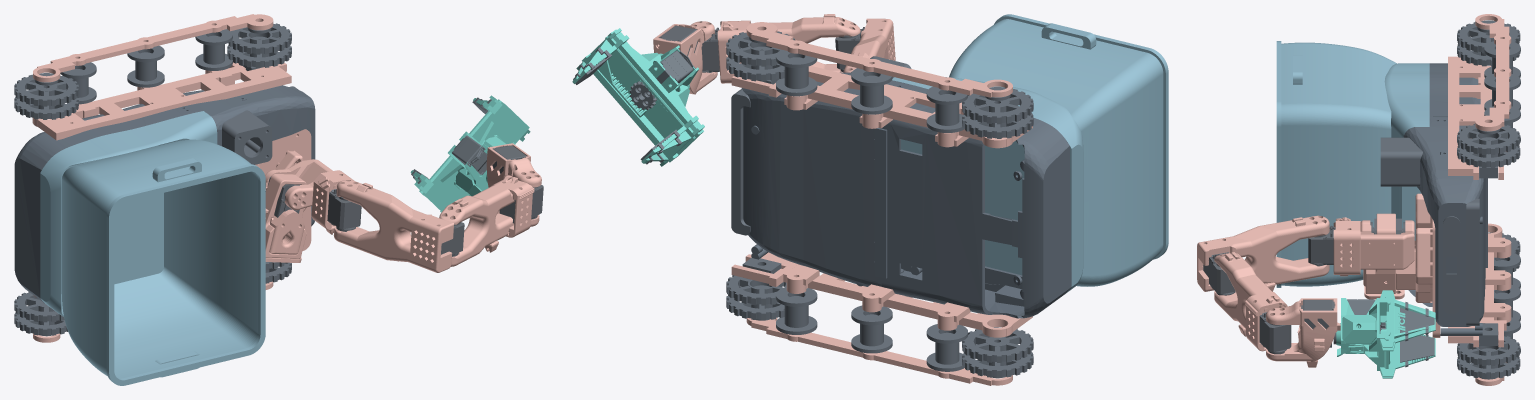
Rendered from moss.glb.
3 views of the same model, side by side, from view 1: azimuth 30°, elevation 25°; view 2: azimuth 150°, elevation 25°; view 3: azimuth 270°, elevation 25° (orthographic). The views are drawn at different scales.
Parts seen in each view (by area): view 1: body_31, body_36, upper_arm_link_1, body_2, body_1, body_20, lower_arm_link_0, grip_132, body_19, body_22, body_24, body_51 (+19 smaller); view 2: body_2, body_31, body_1, body_36, grip_132, body_10, body_12, body_20, body_22, body_9, body_24, body_19 (+21 smaller); view 3: body_31, body_1, upper_arm_link_1, body_36, wrist_link_1, base_link_1, shoulder_link_2, body_24, lower_arm_link_0, body_14, body_19, body_55 (+29 smaller).
Part boxes in pixels (<box>): body_31: <box>62,139,265,385</box>; body_36: <box>40,111,217,316</box>; upper_arm_link_1: <box>333,180,453,272</box>; body_2: <box>14,103,182,303</box>; body_1: <box>174,85,315,226</box>; body_20: <box>137,62,291,108</box>; lower_arm_link_0: <box>439,185,514,266</box>; grip_132: <box>419,99,529,212</box>; body_19: <box>32,87,173,140</box>; body_22: <box>14,74,78,119</box>; body_24: <box>227,23,291,67</box>; body_51: <box>142,14,273,48</box>; body_2: <box>880,85,1071,318</box>; body_31: <box>949,14,1168,286</box>; body_1: <box>741,72,912,286</box>; body_36: <box>892,77,1083,293</box>; grip_132: <box>582,29,703,162</box>; body_10: <box>731,252,894,312</box>; body_12: <box>962,327,1033,377</box>; body_20: <box>731,66,902,128</box>; body_22: <box>962,89,1033,138</box>; body_9: <box>883,293,1032,337</box>; body_24: <box>726,31,794,81</box>; body_19: <box>883,88,1032,148</box>; body_31: <box>1276,41,1396,287</box>; body_1: <box>1403,116,1487,335</box>; upper_arm_link_1: <box>1197,215,1329,291</box>; body_36: <box>1384,63,1429,240</box>; wrist_link_1: <box>1266,298,1340,367</box>; base_link_1: <box>1363,193,1432,302</box>; shoulder_link_2: <box>1341,220,1414,269</box>; body_24: <box>1457,124,1520,167</box>; lower_arm_link_0: <box>1214,252,1284,336</box>; body_14: <box>1457,335,1520,378</box>; body_19: <box>1448,56,1491,112</box>; body_55: <box>1384,137,1422,186</box>.
Size of the model in its own units: 0.5585 by 0.297 by 0.3365.
